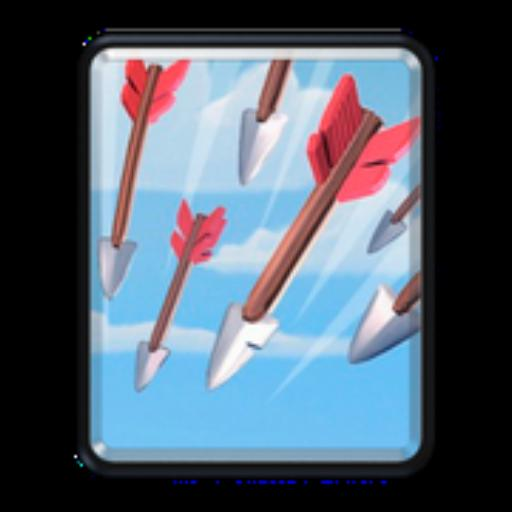arrows: (88, 57, 418, 455)
